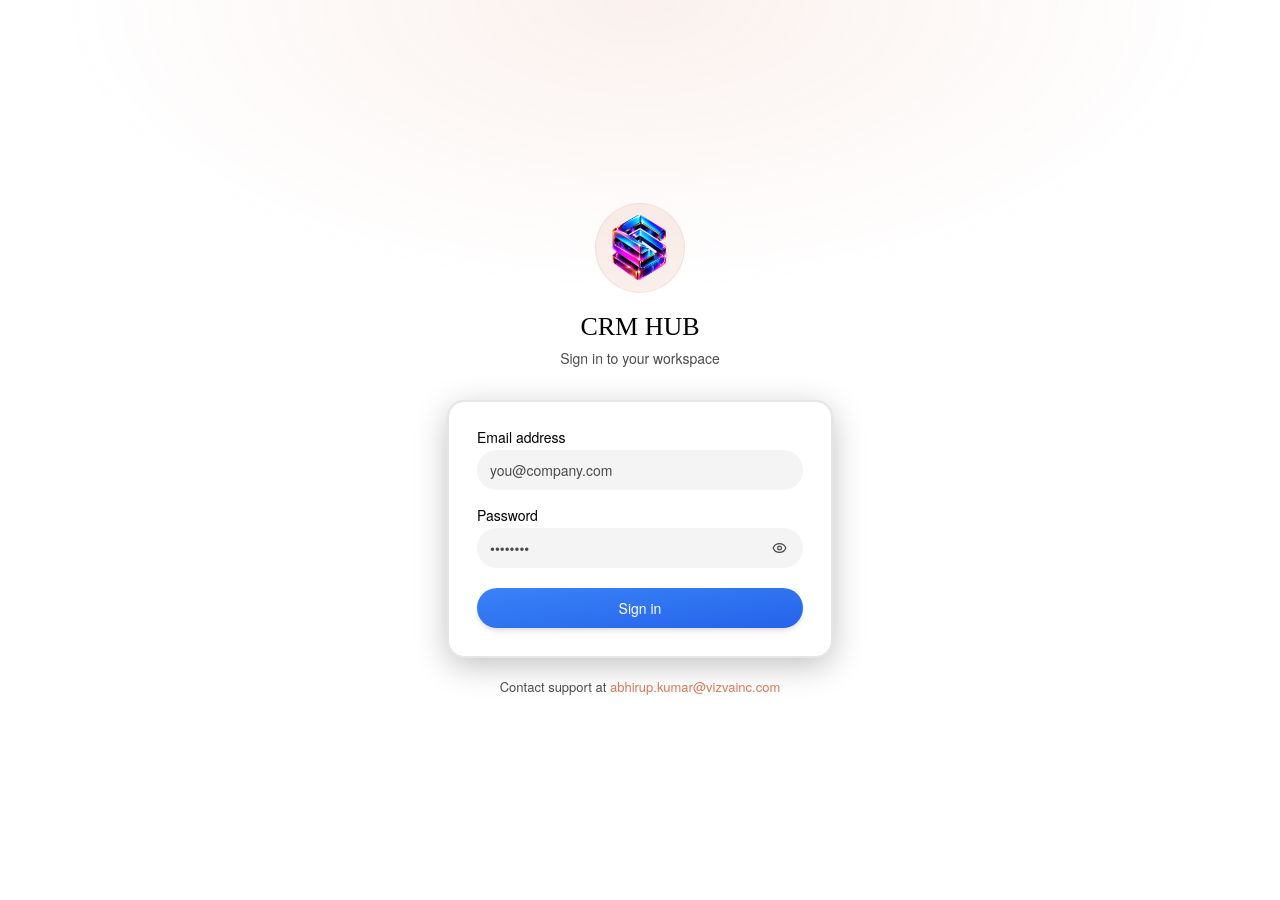
it: LoginPage - Task 2.5: Login Flow with Session Management › Error Handling › should display error message for invalid credentials
Type "test@example.com" into the field labelled "Email address" at (640, 470), box [477,450,803,490]
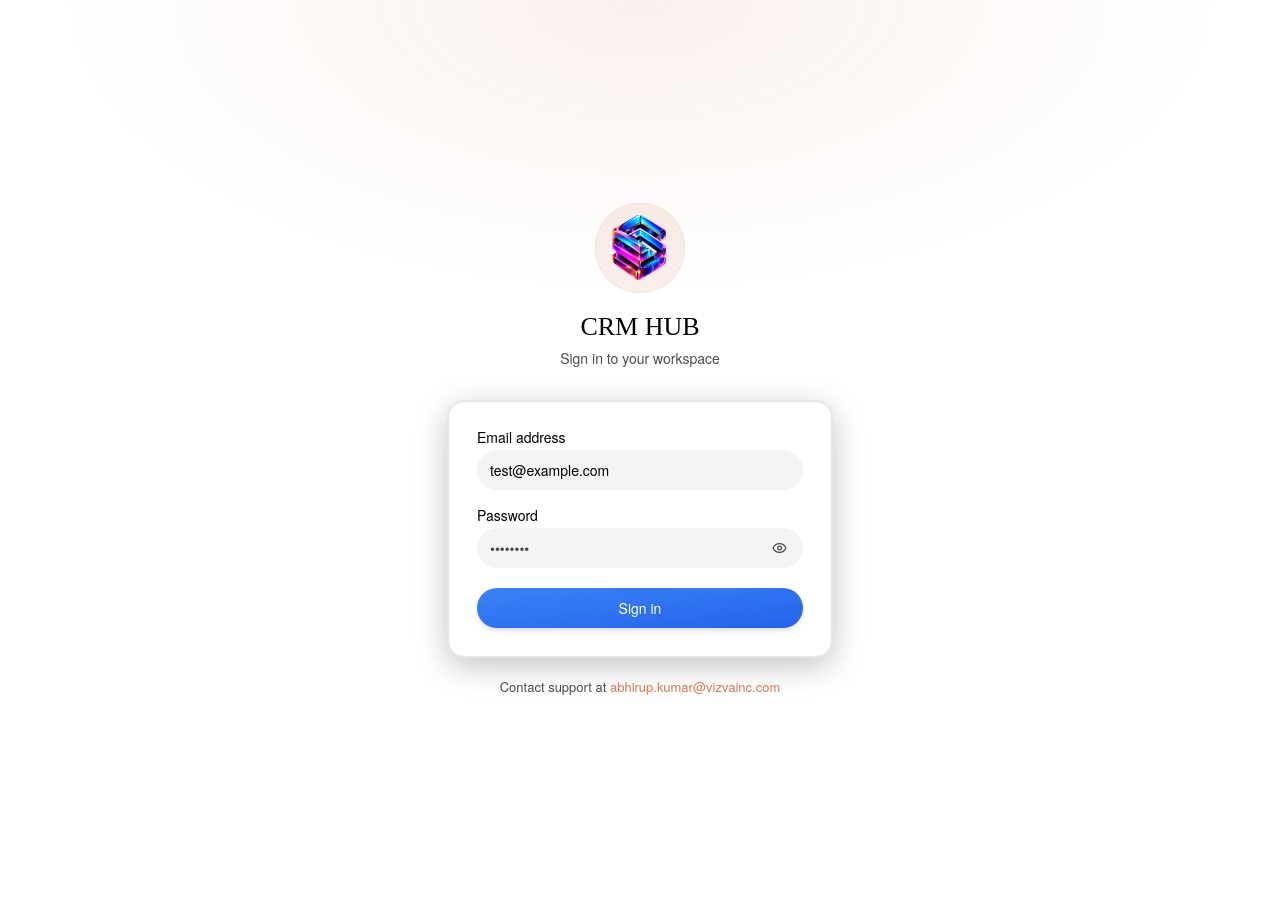
Type "wrongpassword" into the password field labelled "Password" at (640, 548), box [477,528,803,568]
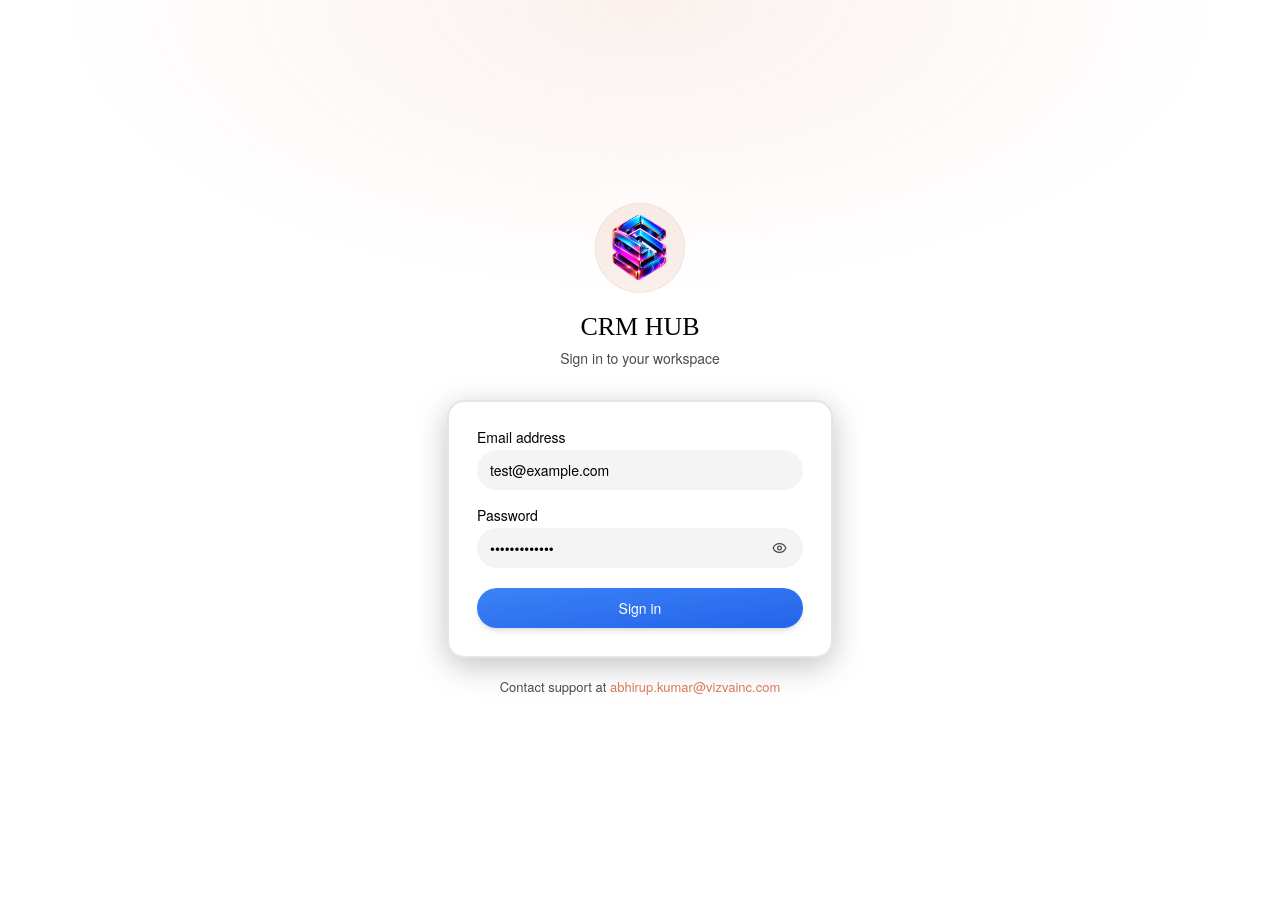
Click the button "Sign in" at (640, 608), box [477,588,803,628]
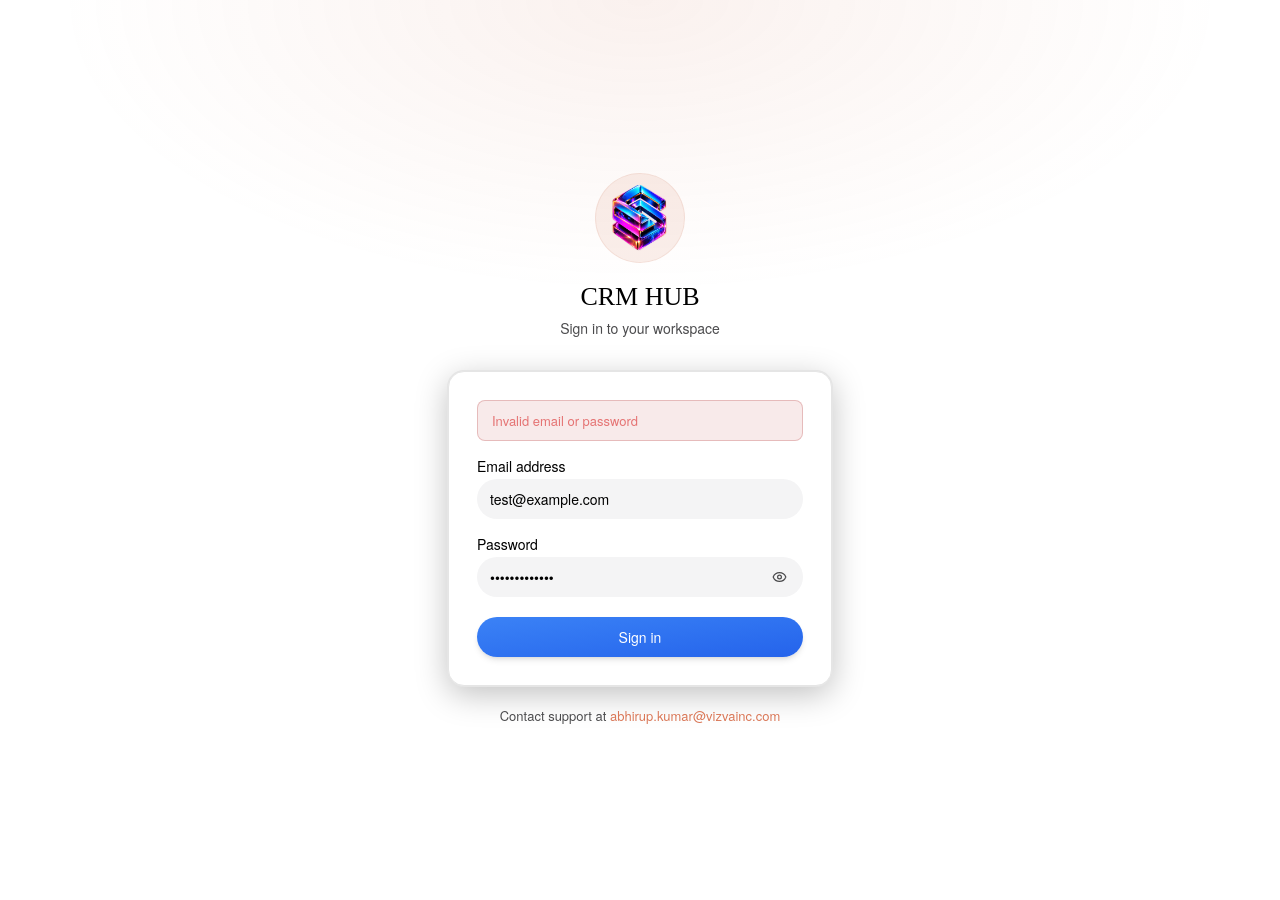
Check: the text "Invalid email or password" is shown, box [477,400,803,441]
